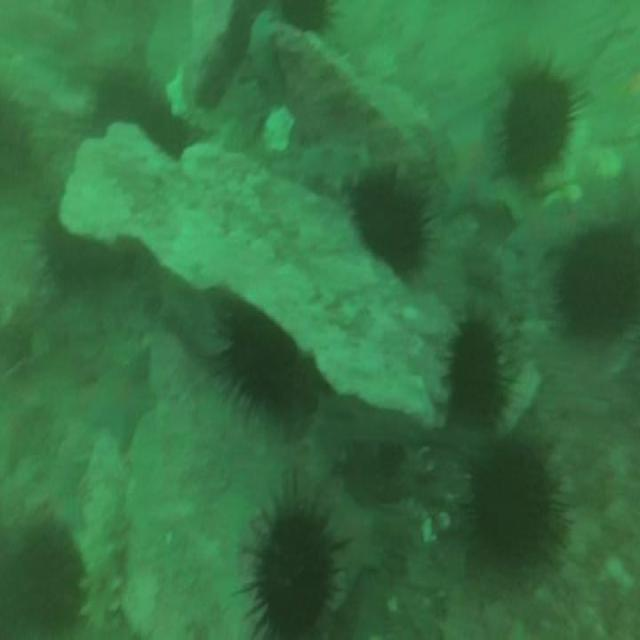echinus: (256, 502, 334, 638), (470, 449, 556, 570), (560, 232, 640, 346), (14, 509, 79, 632), (502, 68, 572, 179), (227, 321, 300, 417), (354, 171, 421, 270), (451, 319, 502, 424), (38, 218, 80, 281)
holothurian: (83, 488, 121, 637)
scallop: (263, 99, 293, 155)
starfish: (93, 345, 155, 455), (332, 476, 381, 610)
